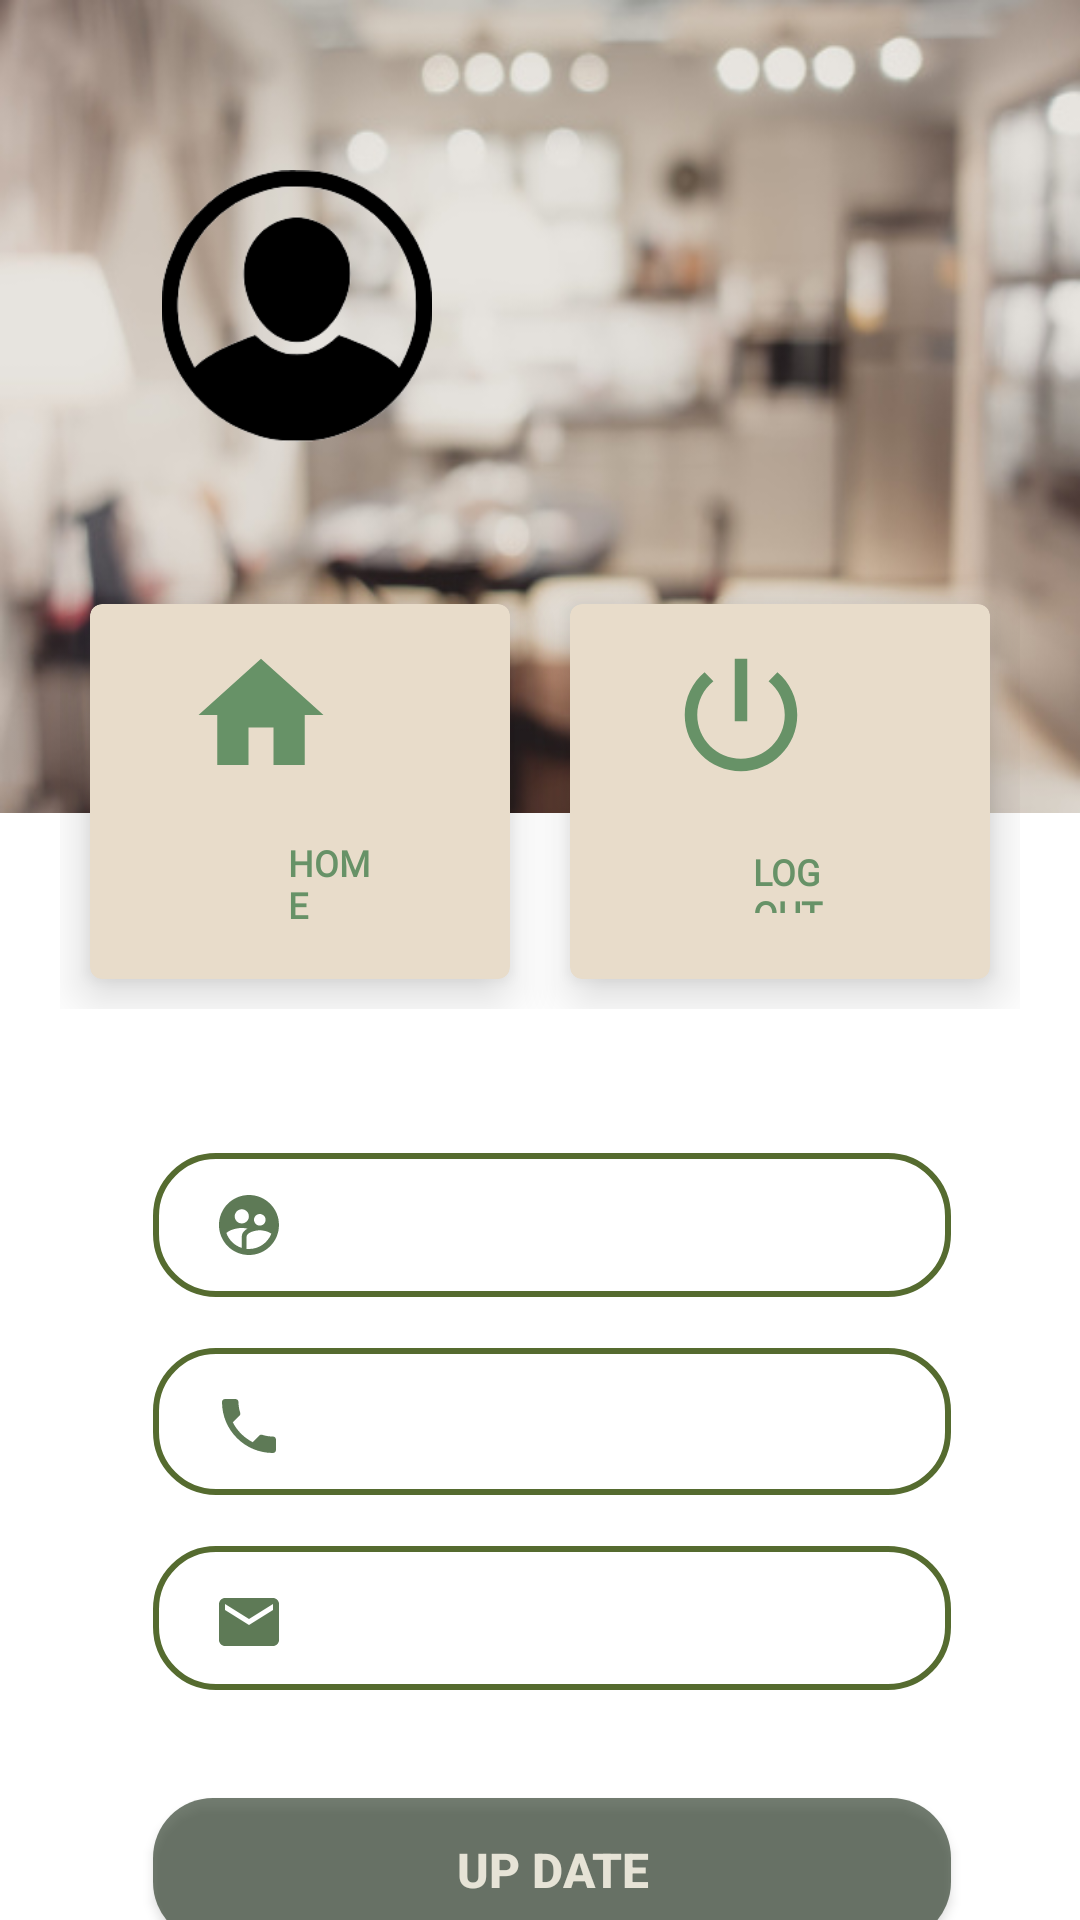

Screen size 1080px x 1920px. Icon name, then its center in pixels as (x=x, y=y):
power settings: (x=741, y=715)
